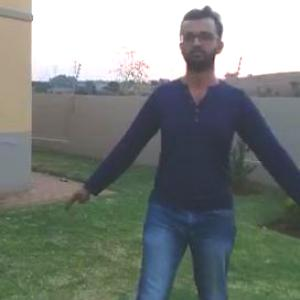land: (53, 7, 299, 299)
